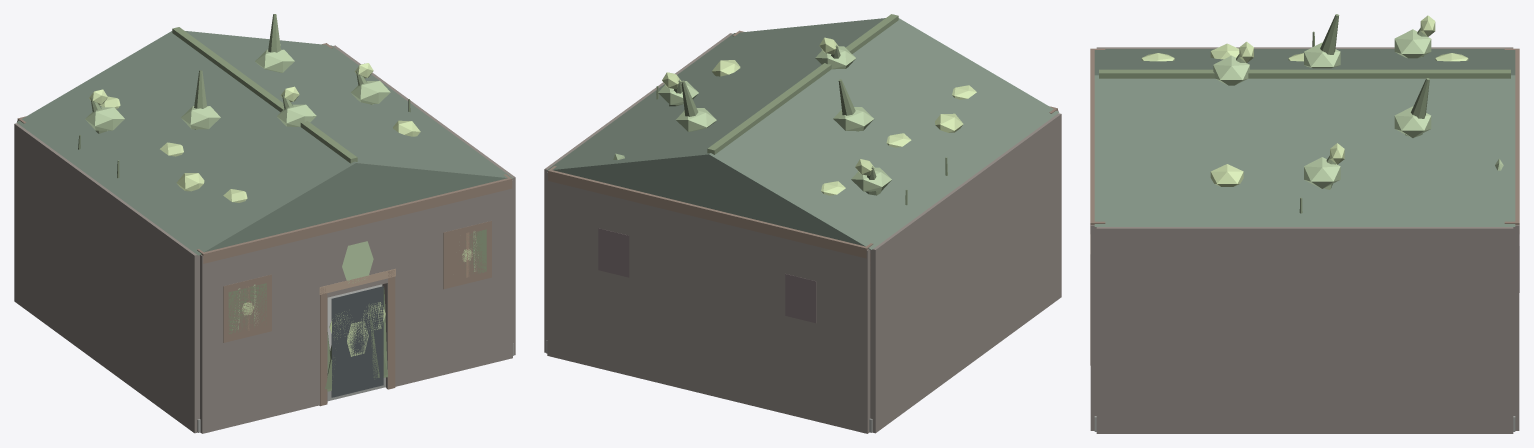
The model's file is svalich_cottage_infested.glb.
3 renders of one model, left to right at view 1: azimuth 30°, elevation 25°; view 2: azimuth 150°, elevation 25°; view 3: azimuth 270°, elevation 25°, orthographic. The views are drawn at different scales.
Parts seen in each view (by area): view 1: svalich_cottage_mat_01, svalich_cottage_mat_10, svalich_cottage_mat_02, svalich_cottage_mat_06, svalich_cottage_mat_04, svalich_cottage_mat_08, svalich_cottage_mat_05, svalich_cottage_mat_00, svalich_cottage_mat_03; view 2: svalich_cottage_mat_01, svalich_cottage_mat_10, svalich_cottage_mat_02, svalich_cottage_mat_06, svalich_cottage_mat_08, svalich_cottage_mat_09, svalich_cottage_mat_05; view 3: svalich_cottage_mat_01, svalich_cottage_mat_10, svalich_cottage_mat_06, svalich_cottage_mat_08, svalich_cottage_mat_05, svalich_cottage_mat_02.
Part boxes in pixels (x1,y1,x2,y2): svalich_cottage_mat_01: (14, 45, 515, 433); svalich_cottage_mat_10: (16, 31, 513, 255); svalich_cottage_mat_02: (17, 43, 512, 406); svalich_cottage_mat_06: (78, 14, 486, 391); svalich_cottage_mat_04: (331, 286, 383, 397); svalich_cottage_mat_08: (85, 44, 478, 329); svalich_cottage_mat_05: (89, 63, 473, 356); svalich_cottage_mat_00: (197, 284, 513, 432); svalich_cottage_mat_03: (319, 269, 395, 294); svalich_cottage_mat_01: (544, 33, 1061, 433); svalich_cottage_mat_10: (547, 18, 1059, 249); svalich_cottage_mat_02: (548, 30, 1057, 381); svalich_cottage_mat_06: (656, 14, 947, 205); svalich_cottage_mat_08: (613, 46, 891, 191); svalich_cottage_mat_09: (598, 228, 816, 323); svalich_cottage_mat_05: (662, 37, 976, 195); svalich_cottage_mat_01: (1090, 47, 1519, 433); svalich_cottage_mat_10: (1094, 49, 1515, 226); svalich_cottage_mat_06: (1099, 14, 1510, 213); svalich_cottage_mat_08: (1213, 29, 1503, 188); svalich_cottage_mat_05: (1141, 15, 1468, 186); svalich_cottage_mat_02: (1090, 48, 1519, 365).
Size of the model in its own units: 3.97 by 3.08 by 3.98.
